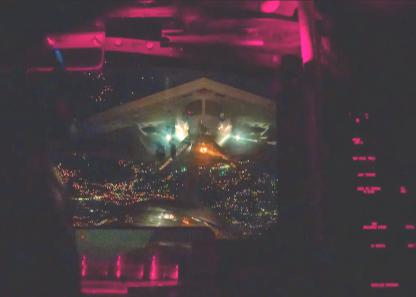B1: (70, 77, 276, 167)
